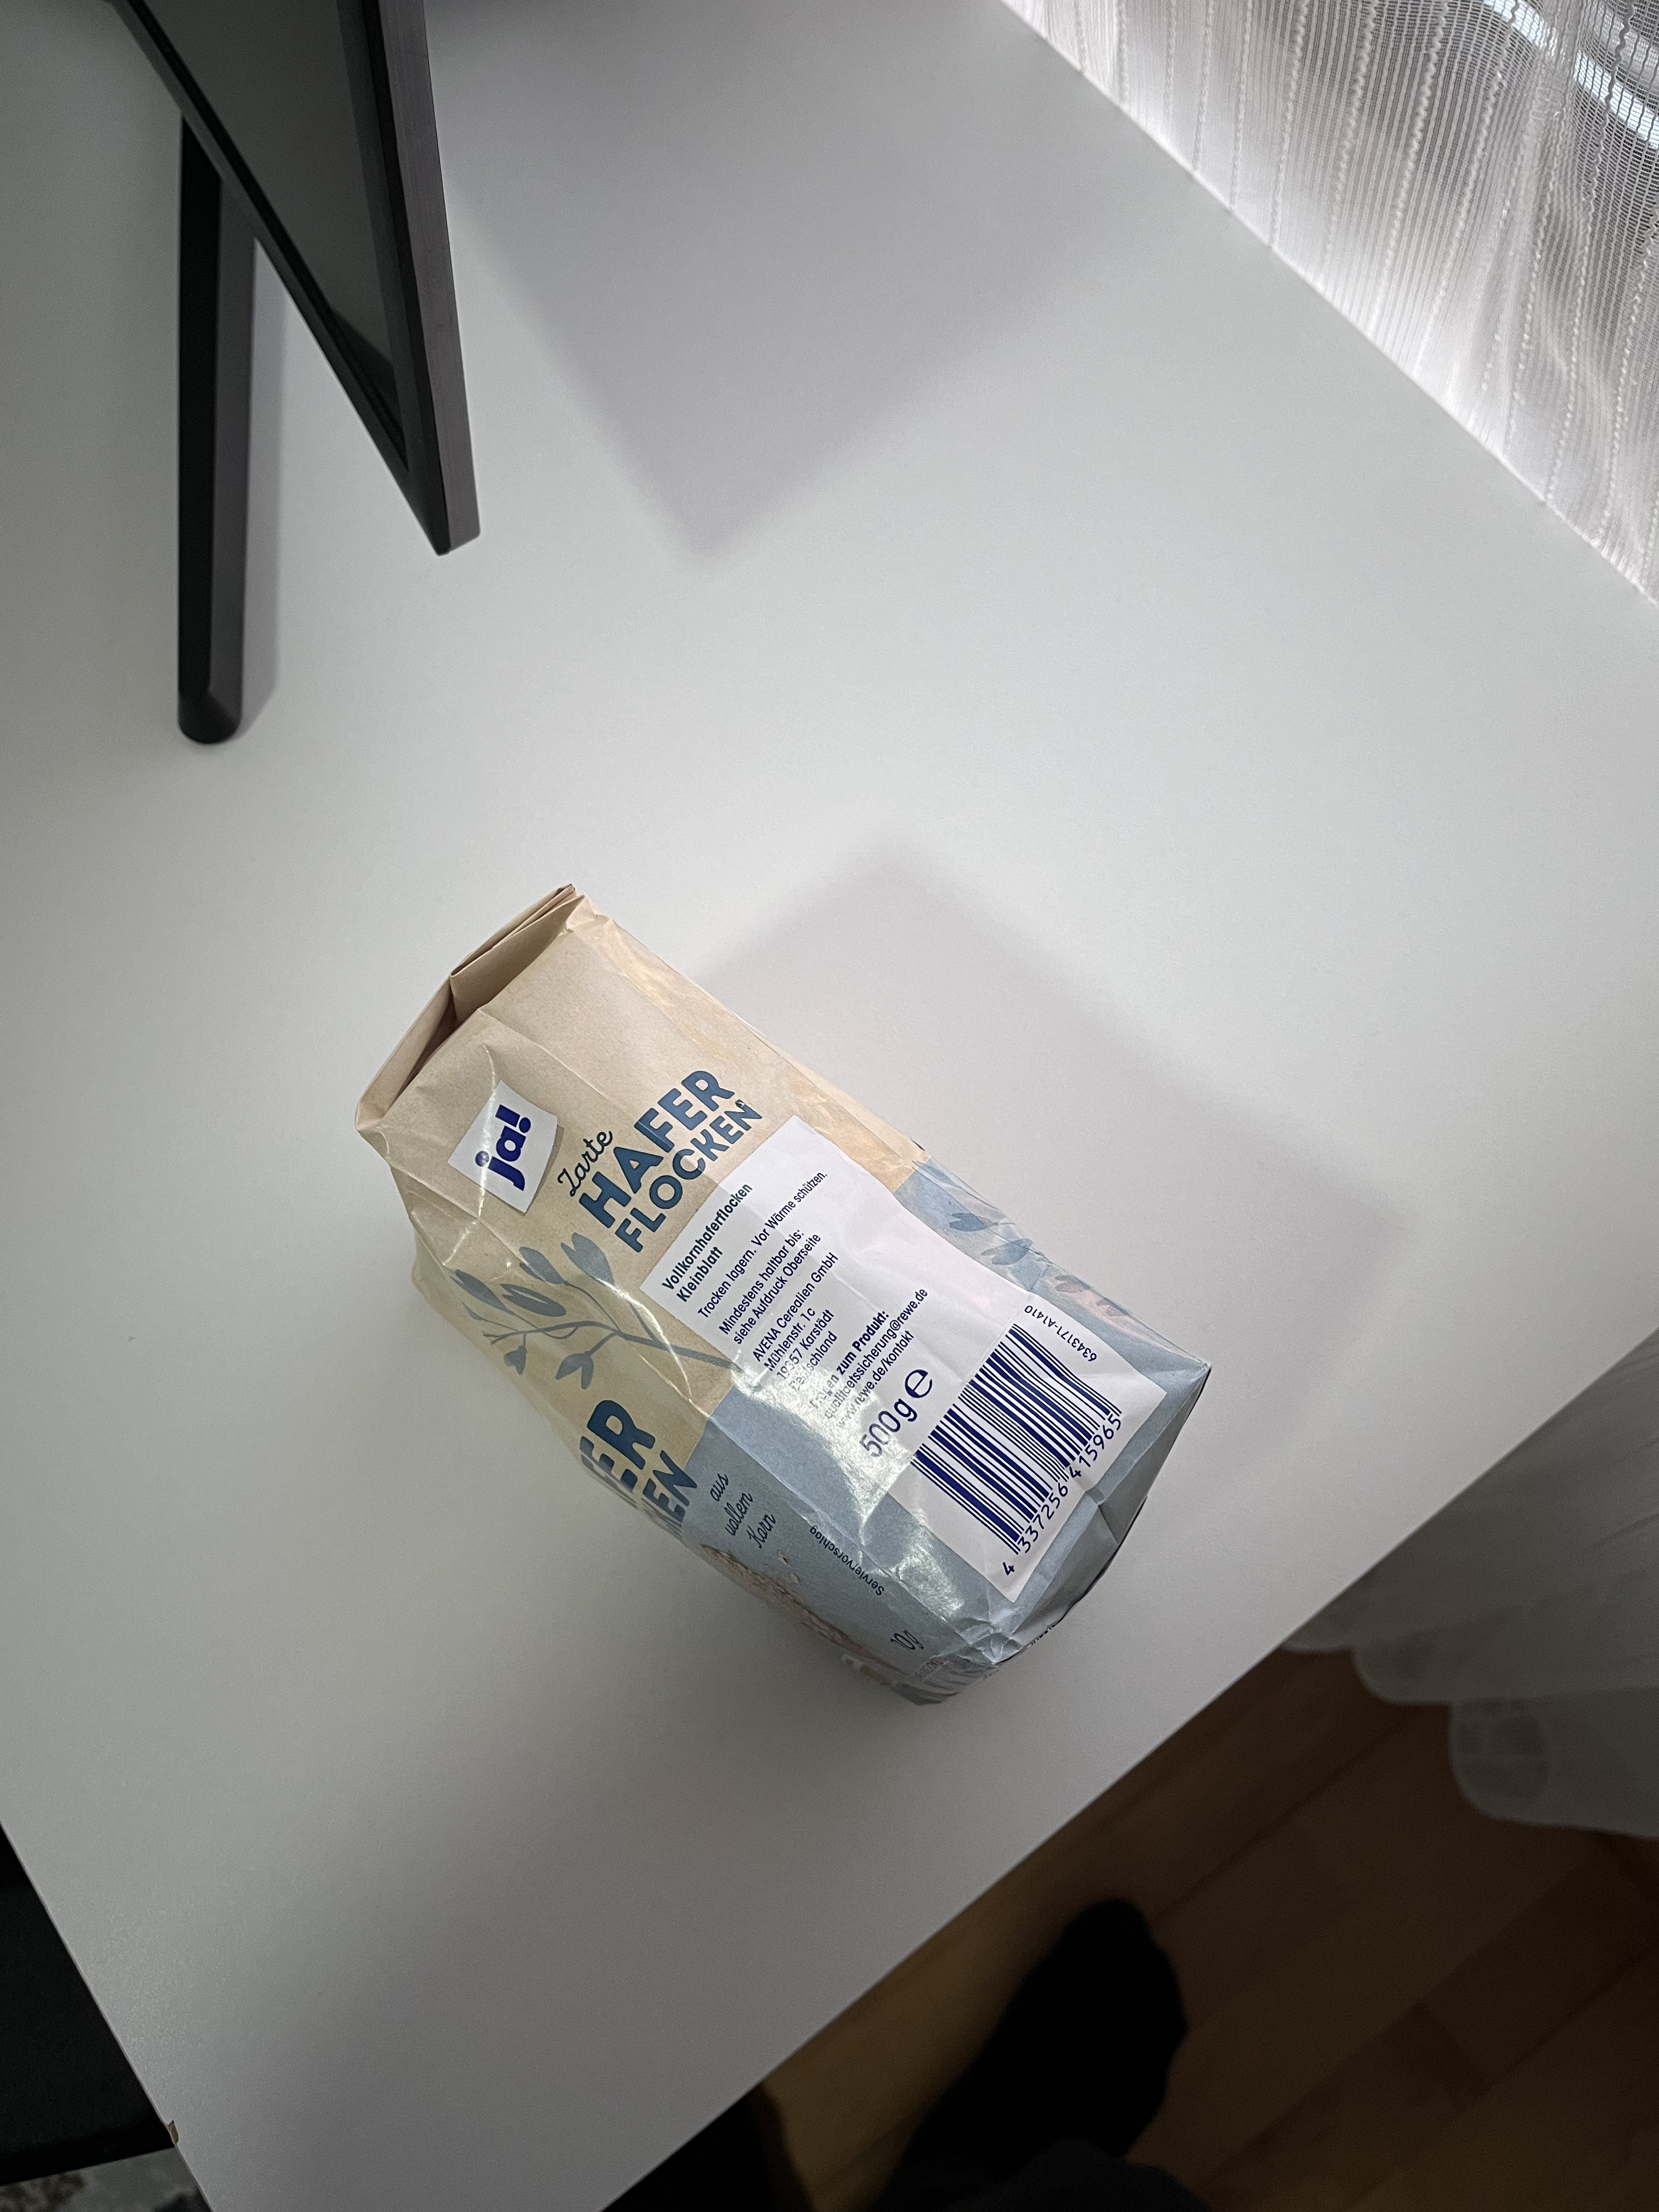haferflocken_ja: (354, 887, 1213, 1702)
